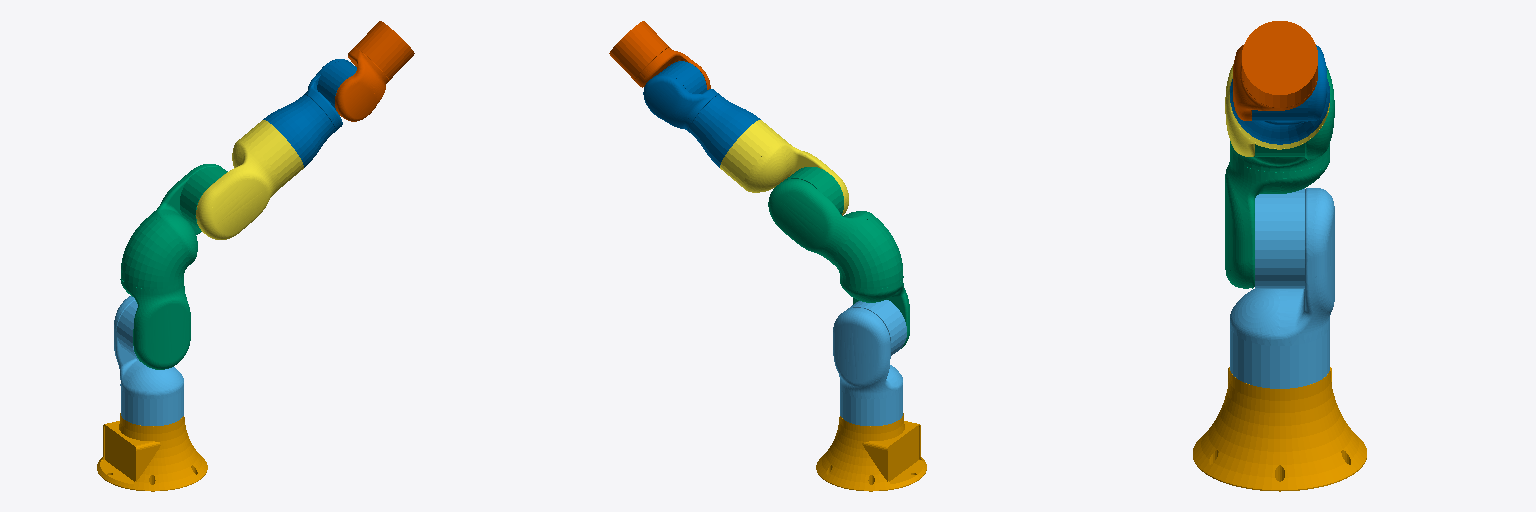
robot.urdf — igus_rebel_6dof:
<?xml version="1.0" ?>
<!-- =================================================================================== -->
<!-- |    This document was autogenerated by xacro from src/iRC_ROS/irc_ros_description/urdf/igus_rebel_6dof.urdf.xacro | -->
<!-- |    EDITING THIS FILE BY HAND IS NOT RECOMMENDED                                 | -->
<!-- =================================================================================== -->
<robot name="igus_rebel_6dof">
  <link name="base_link">
    <visual>
      <geometry>
        <mesh filename="meshes/Joint0.obj"/>
      </geometry>
    </visual>
    <collision>
      <geometry>
        <mesh filename="meshes/Joint0Coll.obj"/>
      </geometry>
    </collision>
    <inertial>
      <mass value="1.0"/>
      <inertia ixx="1.0" ixy="0.0" ixz="0.0" iyy="1.0" iyz="0.0" izz="1.0"/>
    </inertial>
  </link>
  <joint name="joint1" type="revolute">
    <parent link="base_link"/>
    <child link="link_1"/>
    <origin rpy="0.0 0.0 0.0" xyz="0.0 0 0.100"/>
    <axis xyz="0 0 -1"/>
    <limit effort="330.0" lower="-3.12413936106985" upper="3.12413936106985" velocity="0.7853981633974483"/>
  </joint>
  <link name="link_1">
    <visual>
      <geometry>
        <mesh filename="meshes/Joint1.obj"/>
      </geometry>
      <origin rpy="0 0 0" xyz="0 0 0"/>
    </visual>
    <collision>
      <geometry>
        <mesh filename="meshes/Joint1Coll.obj"/>
      </geometry>
      <origin rpy="0 0 0" xyz="0 0 0"/>
    </collision>
    <inertial>
      <mass value="0.1"/>
      <inertia ixx="0.03" ixy="0.0" ixz="0.0" iyy="0.03" iyz="0.0" izz="0.03"/>
    </inertial>
  </link>
  <joint name="joint2" type="revolute">
    <parent link="link_1"/>
    <child link="link_2"/>
    <origin rpy="0.0 0.5235987755982988 0.0" xyz="0.0 0 0.149"/>
    <axis xyz="0 1 0"/>
    <!-- pi*2/3 are the physical limits, but to avoid any collisions we set the actual limits lower -->
    <limit effort="330.0" lower="-1.9198621771937623" upper="1.9198621771937623" velocity="0.7853981633974483"/>
  </joint>
  <link name="link_2">
    <visual>
      <geometry>
        <mesh filename="meshes/Joint2.obj"/>
      </geometry>
      <origin rpy="0 0 0" xyz="0 0 0"/>
    </visual>
    <collision>
      <geometry>
        <mesh filename="meshes/Joint2Coll.obj"/>
      </geometry>
      <origin rpy="0 0 0" xyz="0 0 0"/>
    </collision>
    <inertial>
      <mass value="0.1"/>
      <inertia ixx="0.03" ixy="0.0" ixz="0.0" iyy="0.03" iyz="0.0" izz="0.03"/>
    </inertial>
  </link>
  <joint name="joint3" type="revolute">
    <parent link="link_2"/>
    <child link="link_5"/>
    <origin rpy="0.0 0.5235987755982988 0.0" xyz="0.0 0.0 0.2384"/>
    <axis xyz="0 1 0"/>
    <!-- pi*2/3 are the physical limits, but to avoid any collisions we set the actual limits lower -->
    <limit effort="330.0" lower="-1.9198621771937623" upper="1.9198621771937623" velocity="0.7853981633974483"/>
  </joint>
  <link name="link_5">
    <visual>
      <geometry>
        <mesh filename="meshes/Joint3.obj"/>
      </geometry>
      <origin rpy="0 0 0" xyz="0 0 0"/>
    </visual>
    <collision>
      <geometry>
        <mesh filename="meshes/Joint3Coll.obj"/>
      </geometry>
      <origin rpy="0 0 0" xyz="0 0 0"/>
    </collision>
    <inertial>
      <mass value="0.1"/>
      <inertia ixx="0.03" ixy="0.0" ixz="0.0" iyy="0.03" iyz="0.0" izz="0.03"/>
    </inertial>
  </link>
  <joint name="joint4" type="revolute">
    <parent link="link_5"/>
    <child link="link_6"/>
    <!-- TODO The 0.03m offset are most likely caused by the mesh file (Issue 15)-->
    <origin rpy="0.0 0.0 0.0" xyz="0.0 0 0.119"/>
    <axis xyz="0 0 1"/>
    <limit effort="330.0" lower="-3.12413936106985" upper="3.12413936106985" velocity="0.7853981633974483"/>
  </joint>
  <link name="link_6">
    <visual>
      <geometry>
        <mesh filename="meshes/Joint4.obj"/>
      </geometry>
      <origin rpy="0 0 0" xyz="0 0 0"/>
    </visual>
    <collision>
      <geometry>
        <mesh filename="meshes/Joint4Coll.obj"/>
      </geometry>
      <origin rpy="0 0 0" xyz="0 0 0"/>
    </collision>
    <inertial>
      <mass value="0.1"/>
      <inertia ixx="0.03" ixy="0.0" ixz="0.0" iyy="0.03" iyz="0.0" izz="0.03"/>
    </inertial>
  </link>
  <joint name="joint5" type="revolute">
    <parent link="link_6"/>
    <child link="link_7"/>
    <!-- TODO The 0.03m offset are most likely caused by the mesh file (Issue 15) -->
    <origin rpy="0.0 -0.1308996938995747 0.0" xyz="0.0 0 0.17"/>
    <axis xyz="0 1 0"/>
    <limit effort="330.0" lower="-1.5271630954950381" upper="1.7889624832941877" velocity="0.7853981633974483"/>
  </joint>
  <link name="link_7">
    <visual>
      <geometry>
        <mesh filename="meshes/Joint5.obj"/>
      </geometry>
      <origin rpy="0 0 0" xyz="0 0 0"/>
    </visual>
    <collision>
      <geometry>
        <mesh filename="meshes/Joint5Coll.obj"/>
      </geometry>
      <origin rpy="0 0 0" xyz="0 0 0"/>
    </collision>
    <inertial>
      <mass value="0.1"/>
      <inertia ixx="0.03" ixy="0.0" ixz="0.0" iyy="0.03" iyz="0.0" izz="0.03"/>
    </inertial>
  </link>
  <joint name="joint6" type="revolute">
    <parent link="link_7"/>
    <child link="link_8"/>
    <origin rpy="0.0 0.0 0.0" xyz="0.0 0 0.1208"/>
    <axis xyz="0 0 1"/>
    <limit effort="330.0" lower="-3.12413936106985" upper="3.12413936106985" velocity="0.7853981633974483"/>
  </joint>
  <link name="link_8">
    <visual>
      <geometry>
        <mesh filename="meshes/Joint6.obj"/>
      </geometry>
      <origin rpy="0 0 0" xyz="0.0 0 0"/>
    </visual>
    <collision>
      <geometry>
        <mesh filename="meshes/Joint6Coll.obj"/>
      </geometry>
      <origin rpy="0 0 0" xyz="0.0 0 0"/>
    </collision>
    <inertial>
      <mass value="0.1"/>
      <inertia ixx="0.03" ixy="0.0" ixz="0.0" iyy="0.03" iyz="0.0" izz="0.03"/>
    </inertial>
  </link>
  <joint name="joint7" type="fixed">
    <parent link="link_8"/>
    <child link="flange"/>
    <origin rpy="0.0 -1.5707963267948966 0.0" xyz="0.0 0 0.0012"/>
    <axis xyz="0 0 0"/>
  </joint>
  <link name="flange">
    </link>
  <joint name="flange_to_tool0" type="fixed">
    <parent link="flange"/>
    <child link="tool0"/>
    <origin rpy="0.0 0.0 0.0" xyz="0.0 0.0 0.0"/>
    <axis xyz="0 0 0"/>
  </joint>
  <link name="tool0">
    </link>
  <ros2_control name="igus_rebel_6dof" type="system">
    <hardware>
      <plugin>mock_components/GenericSystem</plugin>
    </hardware>
    <joint name="joint1">
      <command_interface name="position">
        <param name="min">-3.12413936106985</param>
        <param name="max">3.12413936106985</param>
      </command_interface>
      <!-- If you want to increase the velocity and/or speed limit please consult the readme of this package first -->
      <command_interface name="velocity">
        <param name="min">-0.7853981633974483</param>
        <param name="max">0.7853981633974483</param>
      </command_interface>
      <state_interface name="position">
        <param name="initial_value">0.0</param>
      </state_interface>
      <!-- Velocity is required for moveit+mock_components -->
      <state_interface name="velocity">
        <param name="initial_value">0.0</param>
      </state_interface>
      <!-- CPRCAN specific parameters -->
      <param name="can_id">0x10</param>
      <param name="gear_scale">1443.55</param>
      <param name="controller_type">closed_loop</param>
      <!-- CRI specific parameters -->
      <param name="cri_joint_offset">0</param>
    </joint>
    <joint name="joint2">
      <command_interface name="position">
        <param name="min">-2.0943951023931953</param>
        <param name="max">2.0943951023931953</param>
      </command_interface>
      <!-- If you want to increase the velocity and/or speed limit please consult the readme of this package first -->
      <command_interface name="velocity">
        <param name="min">-0.7853981633974483</param>
        <param name="max">0.7853981633974483</param>
      </command_interface>
      <state_interface name="position">
        <param name="initial_value">0.0</param>
      </state_interface>
      <!-- Velocity is required for moveit+mock_components -->
      <state_interface name="velocity">
        <param name="initial_value">0.0</param>
      </state_interface>
      <!-- CPRCAN specific parameters -->
      <param name="can_id">0x20</param>
      <param name="gear_scale">1443.55</param>
      <param name="controller_type">closed_loop</param>
      <!-- CRI specific parameters -->
      <param name="cri_joint_offset">-30</param>
    </joint>
    <joint name="joint3">
      <command_interface name="position">
        <param name="min">-2.0943951023931953</param>
        <param name="max">2.0943951023931953</param>
      </command_interface>
      <!-- If you want to increase the velocity and/or speed limit please consult the readme of this package first -->
      <command_interface name="velocity">
        <param name="min">-0.7853981633974483</param>
        <param name="max">0.7853981633974483</param>
      </command_interface>
      <state_interface name="position">
        <param name="initial_value">0.0</param>
      </state_interface>
      <!-- Velocity is required for moveit+mock_components -->
      <state_interface name="velocity">
        <param name="initial_value">0.0</param>
      </state_interface>
      <!-- CPRCAN specific parameters -->
      <param name="can_id">0x30</param>
      <param name="gear_scale">1443.55</param>
      <param name="controller_type">closed_loop</param>
      <!-- CRI specific parameters -->
      <param name="cri_joint_offset">-30</param>
    </joint>
    <joint name="joint4">
      <command_interface name="position">
        <param name="min">-3.12413936106985</param>
        <param name="max">3.12413936106985</param>
      </command_interface>
      <!-- If you want to increase the velocity and/or speed limit please consult the readme of this package first -->
      <command_interface name="velocity">
        <param name="min">-0.7853981633974483</param>
        <param name="max">0.7853981633974483</param>
      </command_interface>
      <state_interface name="position">
        <param name="initial_value">0.0</param>
      </state_interface>
      <!-- Velocity is required for moveit+mock_components -->
      <state_interface name="velocity">
        <param name="initial_value">0.0</param>
      </state_interface>
      <!-- CPRCAN specific parameters -->
      <param name="can_id">0x40</param>
      <param name="gear_scale">-1443.55</param>
      <param name="controller_type">closed_loop</param>
      <!-- CRI specific parameters -->
      <param name="cri_joint_offset">0</param>
    </joint>
    <joint name="joint5">
      <command_interface name="position">
        <param name="min">-1.658062789394613</param>
        <param name="max">1.658062789394613</param>
      </command_interface>
      <!-- If you want to increase the velocity and/or speed limit please consult the readme of this package first -->
      <command_interface name="velocity">
        <param name="min">-0.7853981633974483</param>
        <param name="max">0.7853981633974483</param>
      </command_interface>
      <state_interface name="position">
        <param name="initial_value">0.0</param>
      </state_interface>
      <!-- Velocity is required for moveit+mock_components -->
      <state_interface name="velocity">
        <param name="initial_value">0.0</param>
      </state_interface>
      <!-- CPRCAN specific parameters -->
      <param name="can_id">0x50</param>
      <param name="gear_scale">1031.11</param>
      <param name="controller_type">closed_loop</param>
      <!-- CRI specific parameters -->
      <param name="cri_joint_offset">7.5</param>
    </joint>
    <joint name="joint6">
      <command_interface name="position">
        <param name="min">-3.12413936106985</param>
        <param name="max">3.12413936106985</param>
      </command_interface>
      <!-- If you want to increase the velocity and/or speed limit please consult the readme of this package first -->
      <command_interface name="velocity">
        <param name="min">-0.7853981633974483</param>
        <param name="max">0.7853981633974483</param>
      </command_interface>
      <state_interface name="position">
        <param name="initial_value">0.0</param>
      </state_interface>
      <!-- Velocity is required for moveit+mock_components -->
      <state_interface name="velocity">
        <param name="initial_value">0.0</param>
      </state_interface>
      <!-- CPRCAN specific parameters -->
      <param name="can_id">0x60</param>
      <param name="gear_scale">-1031.11</param>
      <param name="controller_type">closed_loop</param>
      <!-- CRI specific parameters -->
      <param name="cri_joint_offset">0</param>
    </joint>
    <gpio name="dio_base">
      <param name="can_id">0x70</param>
      <command_interface data_type="bool" name="digital_output_0"/>
      <command_interface data_type="bool" name="digital_output_1"/>
      <command_interface data_type="bool" name="digital_output_2"/>
      <command_interface data_type="bool" name="digital_output_3"/>
      <command_interface data_type="bool" name="digital_output_4"/>
      <command_interface data_type="bool" name="digital_output_5"/>
      <command_interface data_type="bool" name="digital_output_6"/>
      <state_interface data_type="bool" name="digital_input_0"/>
      <state_interface data_type="bool" name="digital_input_1"/>
      <state_interface data_type="bool" name="digital_input_2"/>
      <state_interface data_type="bool" name="digital_input_3"/>
      <state_interface data_type="bool" name="digital_input_4"/>
      <state_interface data_type="bool" name="digital_input_5"/>
      <state_interface data_type="bool" name="digital_input_6"/>
    </gpio>
    <gpio name="dio_arm">
      <param name="can_id">0x80</param>
      <command_interface data_type="bool" name="digital_output_0"/>
      <command_interface data_type="bool" name="digital_output_1"/>
      <state_interface data_type="bool" name="digital_input_0"/>
      <state_interface data_type="bool" name="digital_input_1"/>
    </gpio>
  </ros2_control>
  <!-- Add world link -->
  
  
  <!-- Make sure tcp exists even if no tool is attached -->
  <joint name="flange_to_tcp" type="fixed">
    <parent link="flange"/>
    <child link="tcp"/>
    <origin rpy="0.0 0.0 0.0" xyz="0.0 0.0 0.0"/>
    <axis xyz="0 0 0"/>
  </joint>
  <link name="tcp">
    <inertial>
      <mass value="0.1"/>
      <inertia ixx="0.03" ixy="0.0" ixz="0.0" iyy="0.03" iyz="0.0" izz="0.03"/>
    </inertial>
  </link>
</robot>

--- Render facts (derived) ---
3 views of the same robot in one strip: view 1: azimuth 30°, elevation 25°; view 2: azimuth 150°, elevation 25°; view 3: azimuth 270°, elevation 25° (orthographic).
Robot: igus_rebel_6dof — 10 links, 9 joints (6 revolute, 3 fixed); root link base_link; default pose: all joints at 0.
Links seen in each view (by area): view 1: link_2, link_5, base_link, link_1, link_6, link_7; view 2: link_2, link_1, base_link, link_6, link_5, link_7; view 3: link_1, base_link, link_2, link_7, link_6, link_5.
Link boxes in pixels (x1=…): link_2: x1=120, y1=164, x2=227, y2=369; link_5: x1=196, y1=120, x2=303, y2=239; base_link: x1=97, y1=413, x2=207, y2=491; link_1: x1=114, y1=296, x2=183, y2=425; link_6: x1=263, y1=59, x2=356, y2=167; link_7: x1=335, y1=21, x2=414, y2=121; link_2: x1=768, y1=167, x2=909, y2=348; link_1: x1=833, y1=300, x2=906, y2=425; base_link: x1=816, y1=413, x2=926, y2=491; link_6: x1=643, y1=61, x2=760, y2=167; link_5: x1=720, y1=120, x2=848, y2=215; link_7: x1=609, y1=21, x2=710, y2=89; link_1: x1=1230, y1=188, x2=1334, y2=388; base_link: x1=1193, y1=367, x2=1366, y2=491; link_2: x1=1225, y1=66, x2=1334, y2=288; link_7: x1=1233, y1=21, x2=1317, y2=120; link_6: x1=1230, y1=45, x2=1329, y2=144; link_5: x1=1225, y1=64, x2=1329, y2=156.
Bounding box of the posed robot: 0.5809 × 0.1824 × 0.7052 m (x, y, z).
Meshes: 7 distinct files referenced, 6 mesh visuals loaded (6 OBJ); not drawn: 1 (reference not matched to a file when rendering).
